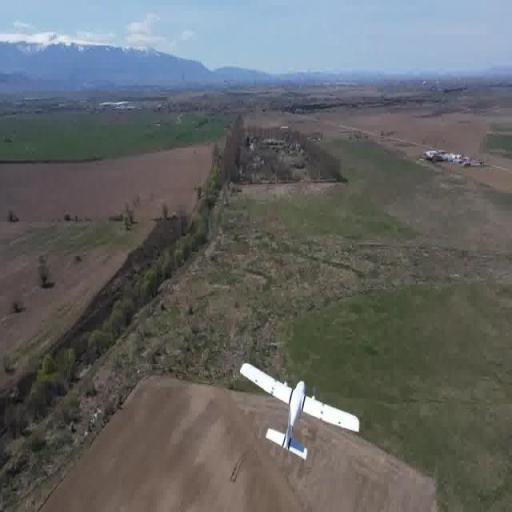uav: (237, 354, 363, 472)
